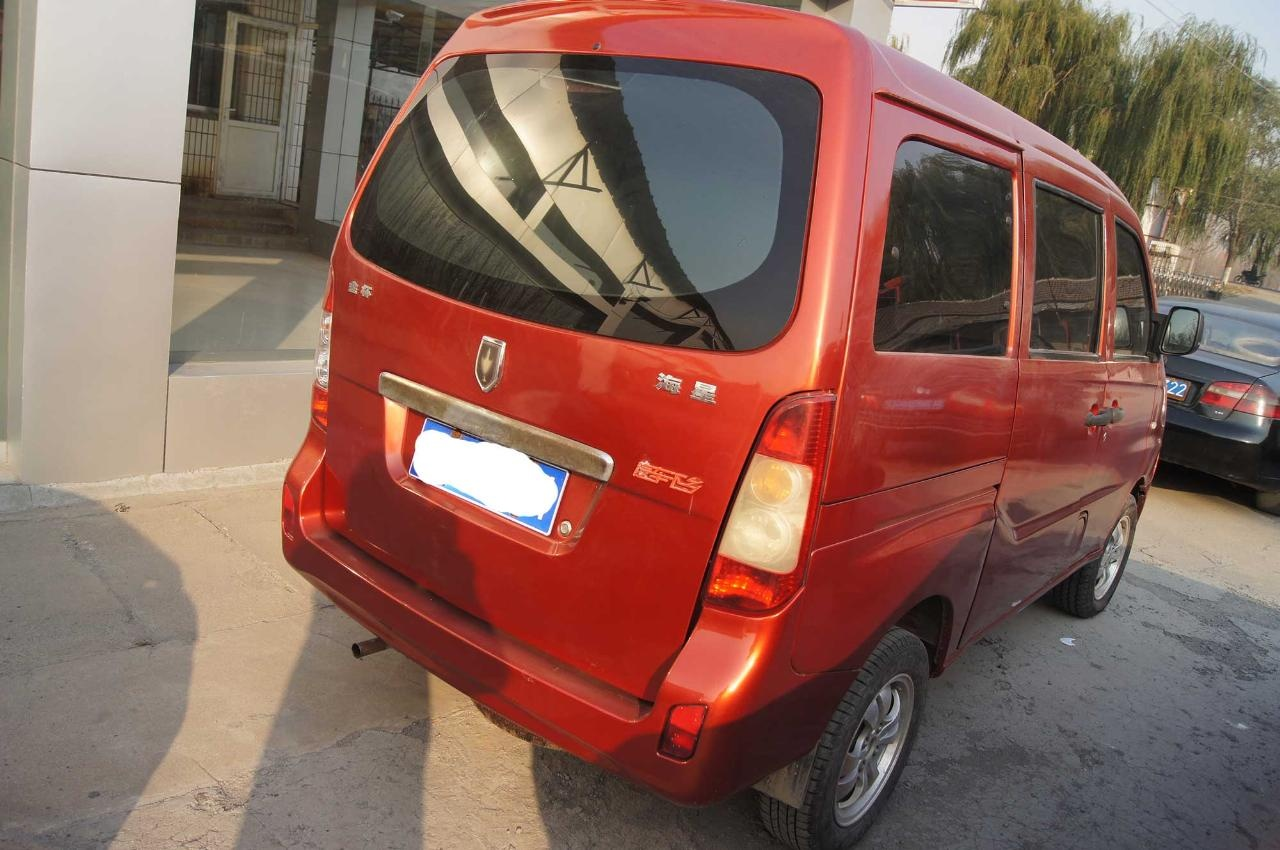minibus: (304, 19, 1216, 825)
